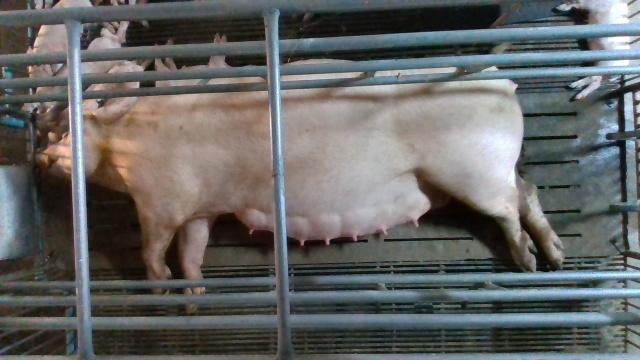piglet: (22, 29, 123, 116), (556, 0, 630, 100), (27, 0, 100, 77), (94, 61, 144, 124)
sow-sleep-lactate: (34, 61, 563, 315)
